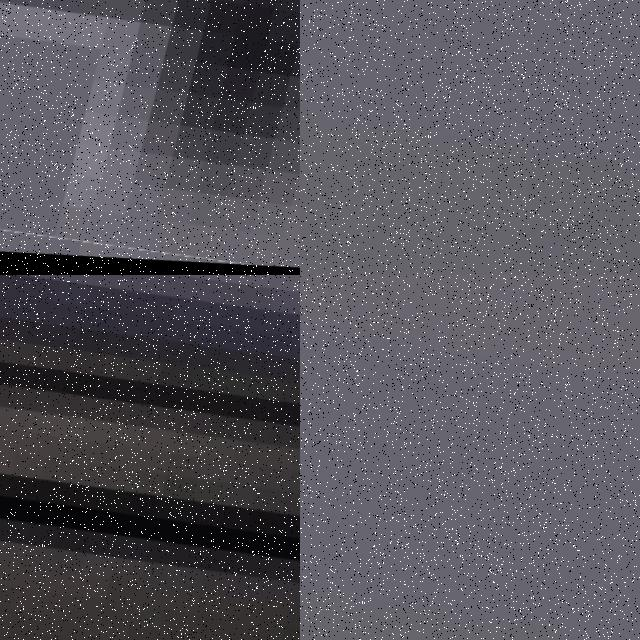0: (0, 0, 300, 275)
drone: (0, 275, 300, 640)
